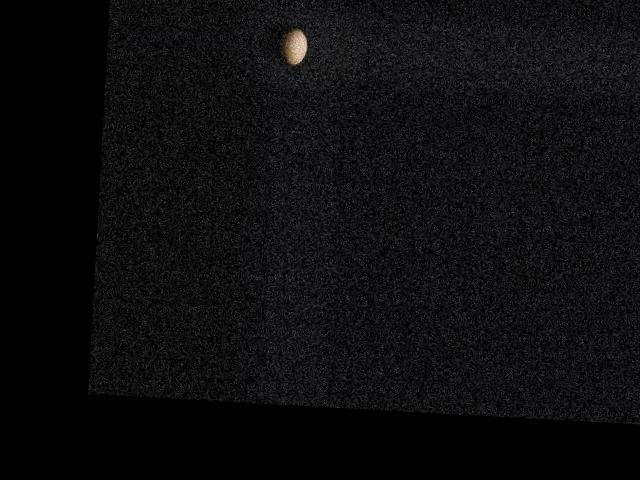egg: (280, 26, 308, 66)
